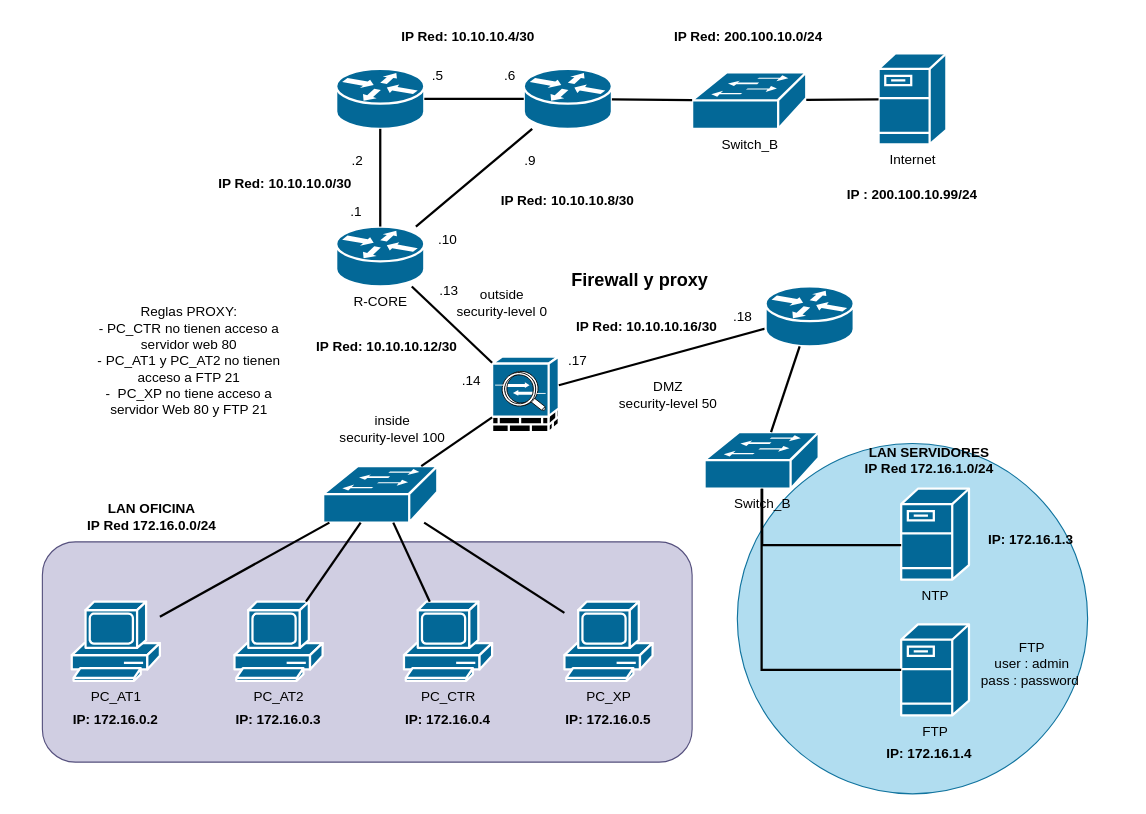
This 1146x814 diagram has some shape labels left out. The shapes that lost their labels are listed below. From the top down, each one's centre as x and y in pixels, then its label:
At (379,98): "ABR".
At (567,98): "R-IGW".
At (809,316): "R-CORE-AC".
At (524,394): "ASA FIREWALL".
At (379,493): "Switch_A".
